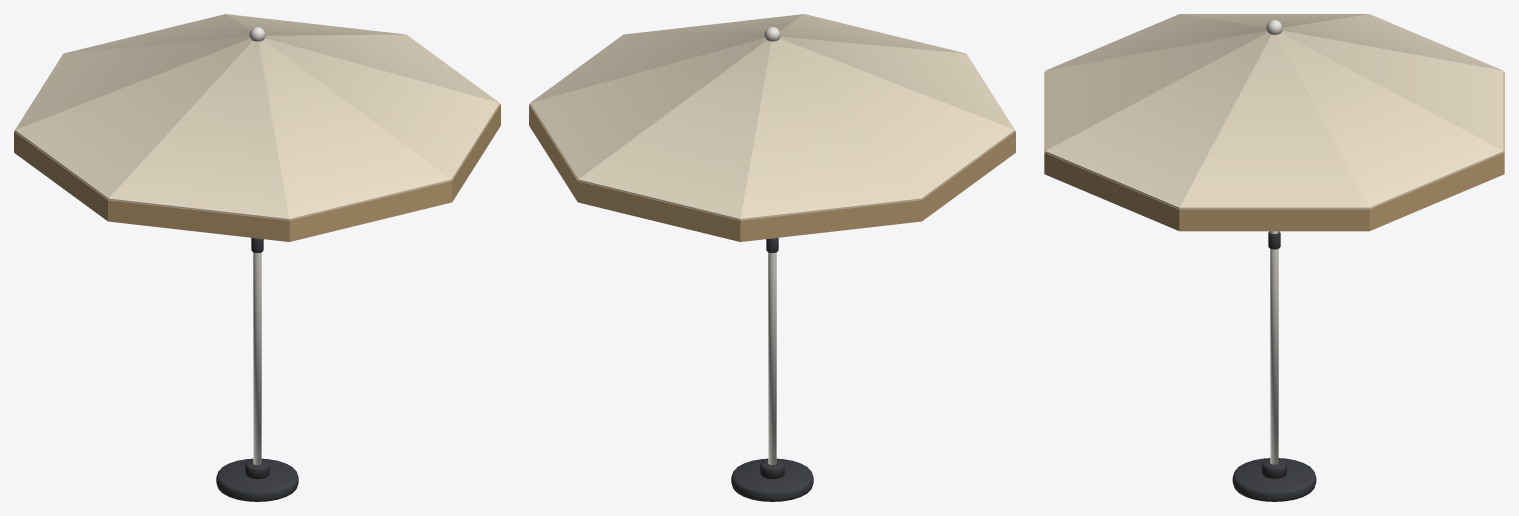
Rendered from parasol.glb.
The picture shows the model from 3 angles, left to right: view 1: azimuth 30°, elevation 25°; view 2: azimuth 150°, elevation 25°; view 3: azimuth 270°, elevation 25°; orthographic projection.
Parts seen in each view (by area): view 1: canopy, stand; view 2: canopy, stand; view 3: canopy, stand.
Part boxes in pixels (bbox=[...]): canopy: bbox=[14, 14, 500, 241]; stand: bbox=[216, 237, 298, 501]; canopy: bbox=[529, 14, 1015, 241]; stand: bbox=[731, 237, 813, 501]; canopy: bbox=[1044, 14, 1504, 231]; stand: bbox=[1232, 231, 1316, 501].
Size of the model in its own units: 2.21 by 2.46 by 2.21.
